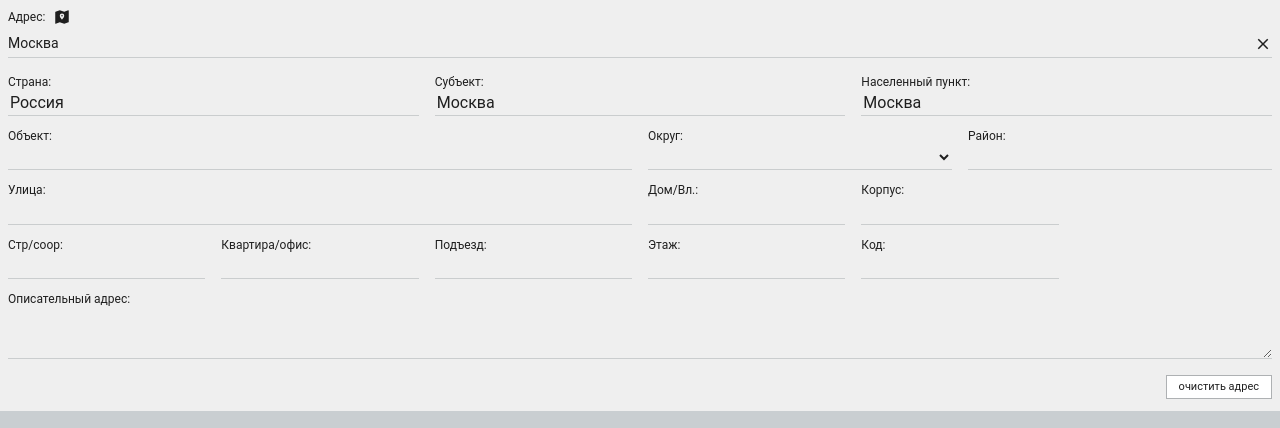
Scenario: Operator112AddressField › меньше 3 символов — запрос не отправляется; от 3 — подсказки справочника
The image size is (1280, 428).
Type "Гр" into the dropdown labelled "Улица:" at [320, 212], box [8,199,632,225]
Wait 260 ms
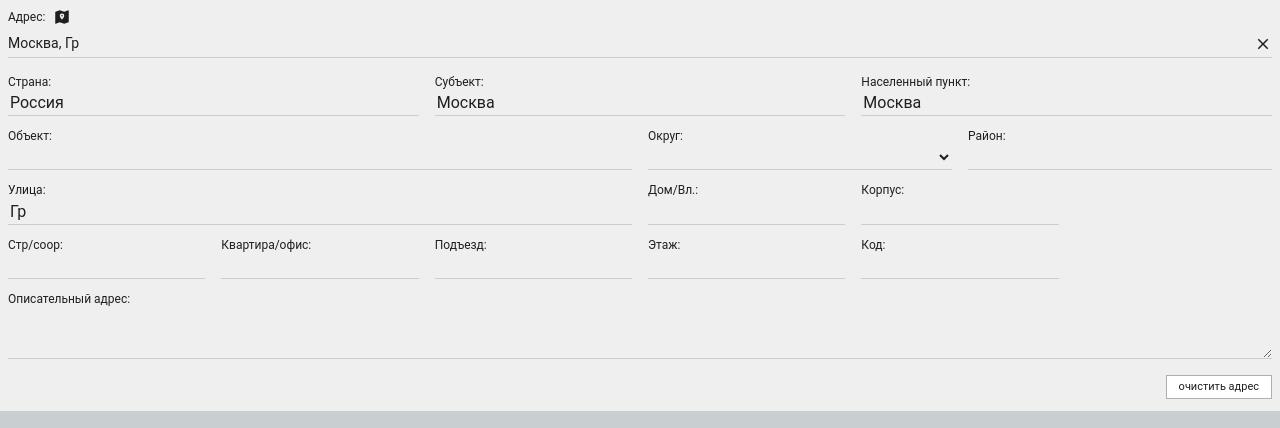
Replace the text in the dropdown labelled "Улица:" with "Гри" at [320, 212], box [8,199,632,225]
Wait 260 ms
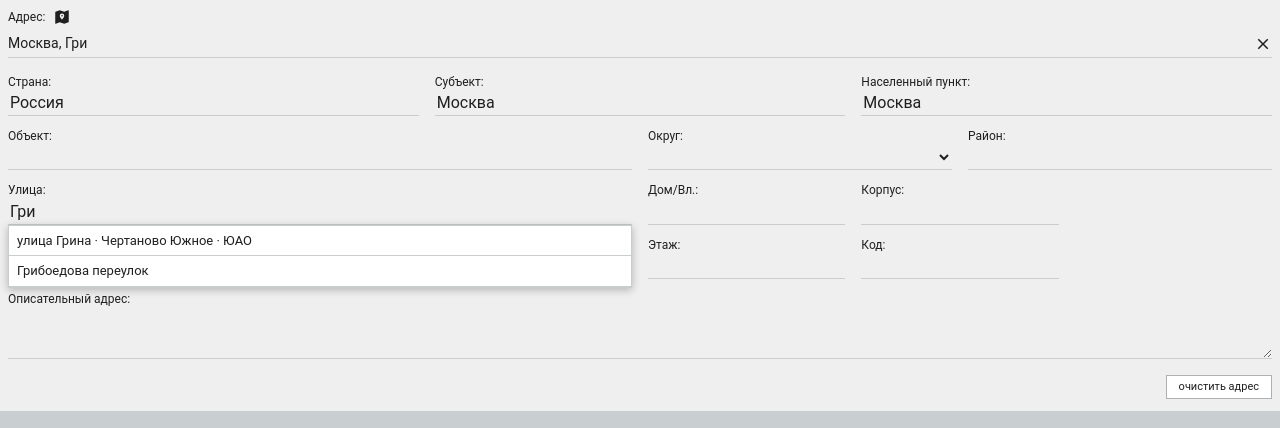
Result: the number of options is 2 at [9,226,631,256]; [9,256,631,287]
